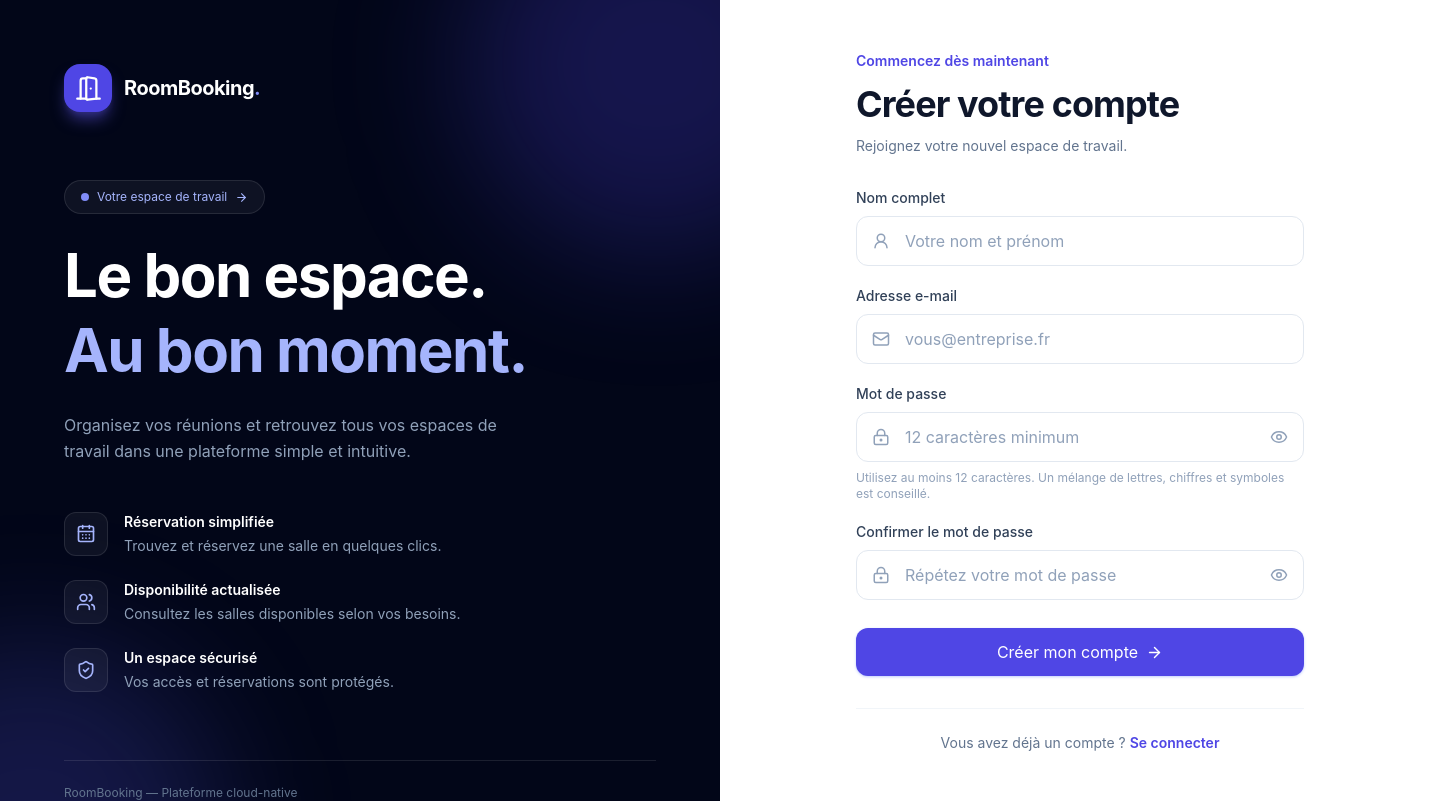
Test: RegisterPage › rejects an invalid email address
The image size is (1440, 801).
Type "RoomBooking Test User" into the field labelled "Nom complet" at (1080, 241), box [856,216,1304,266]
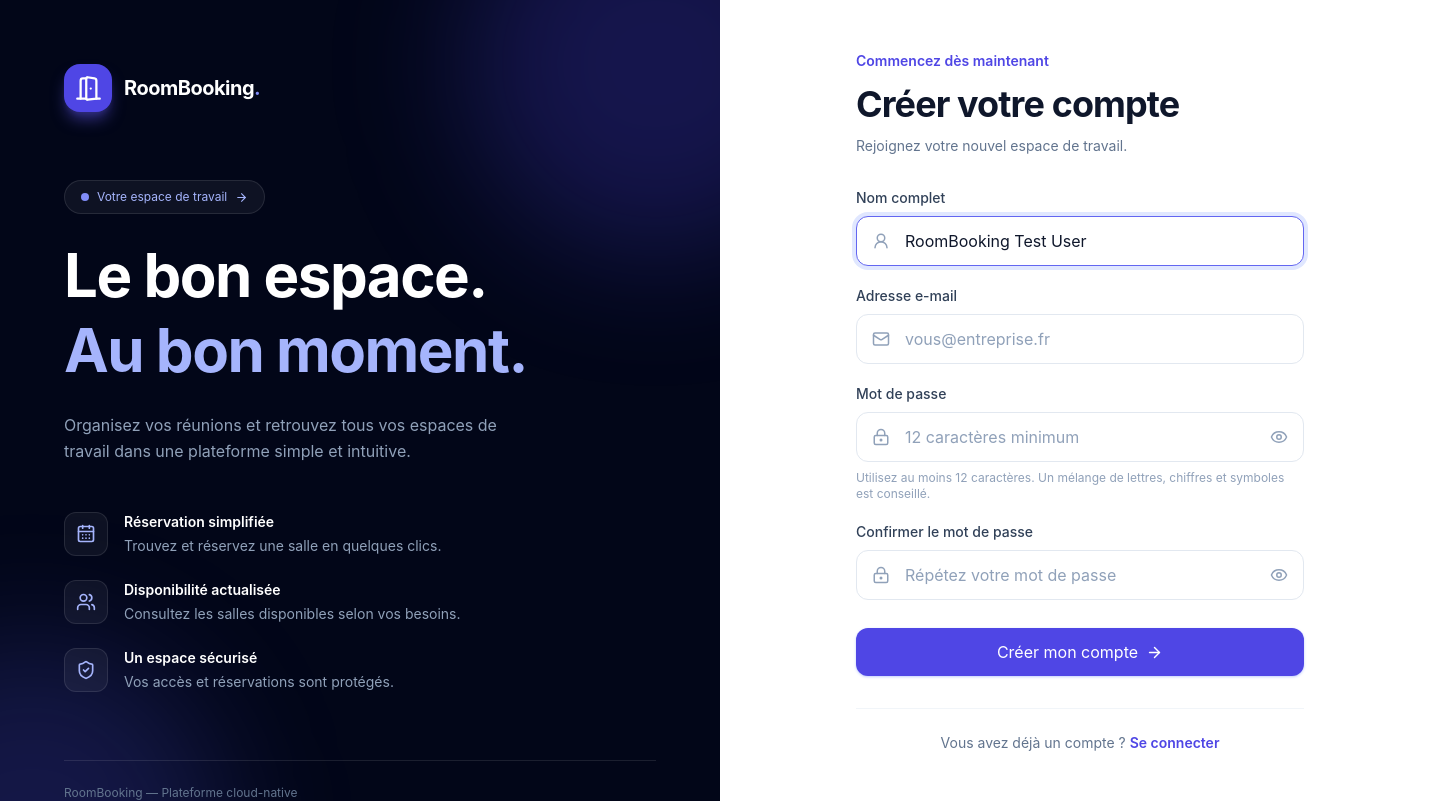
Type "invalid-email" into the field labelled "Adresse e-mail" at (1080, 339), box [856,314,1304,364]
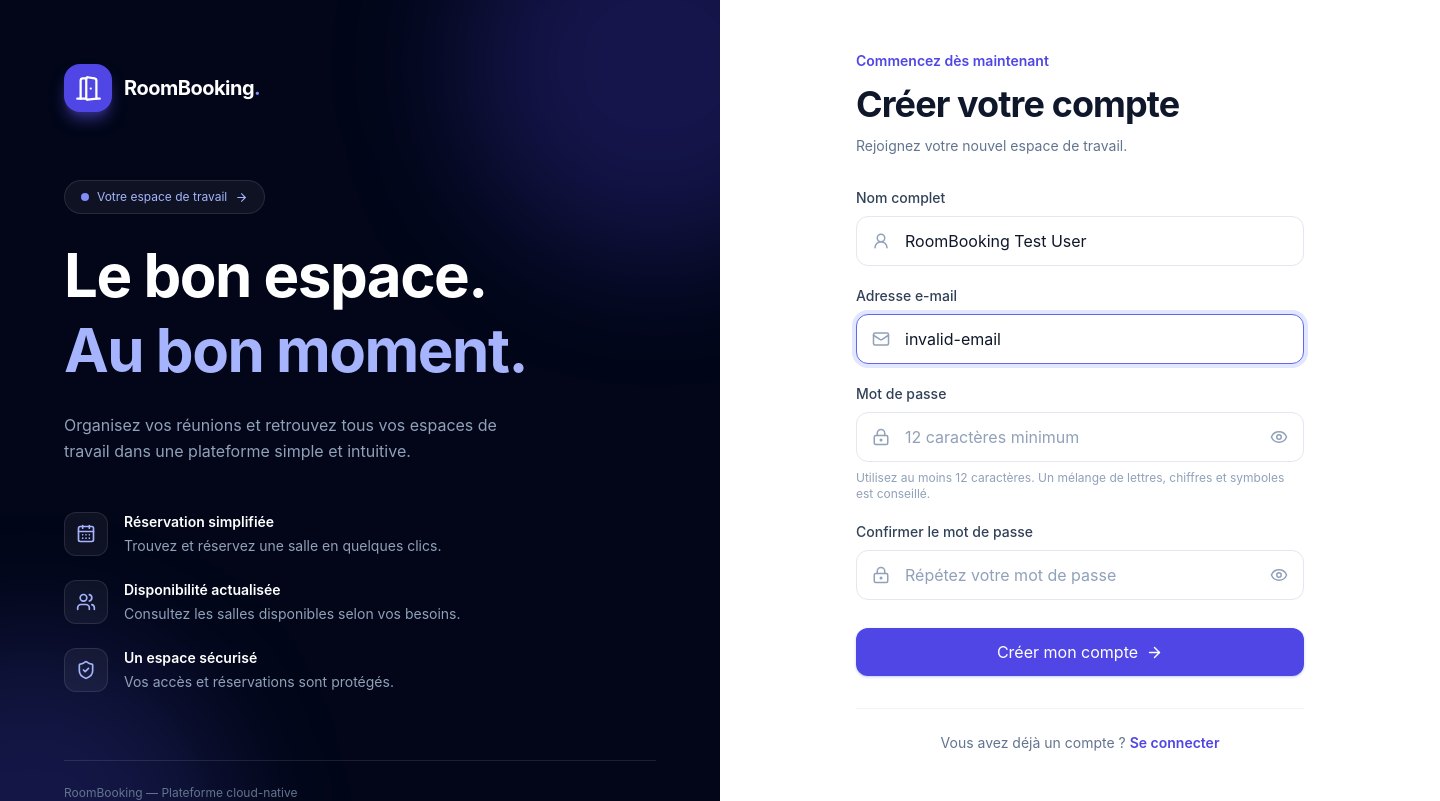
Type "TestPassword@2026!" into the password field labelled "Mot de passe" at (1080, 437), box [856,412,1304,462]
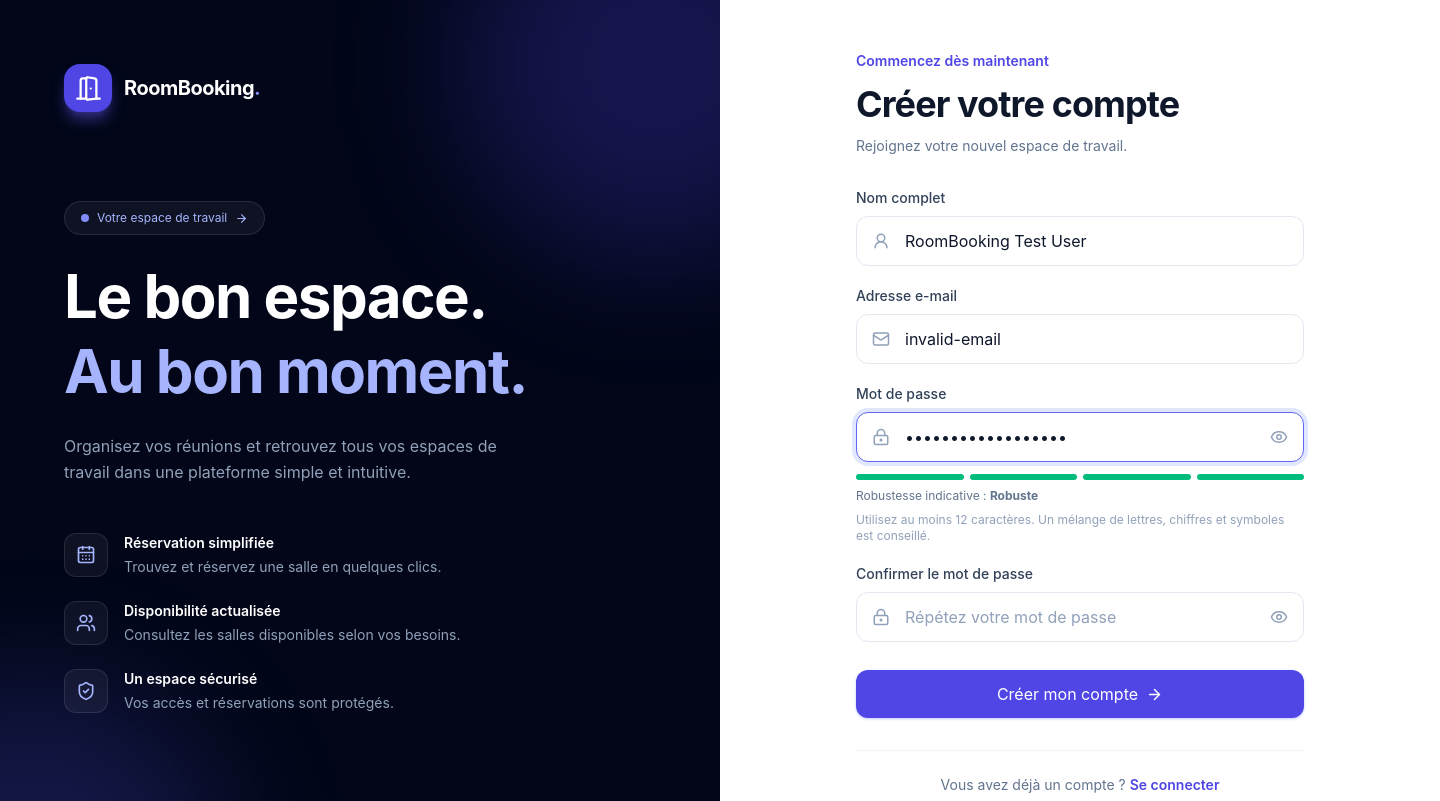
Type "TestPassword@2026!" into the password field labelled "Confirmer le mot de passe" at (1080, 617), box [856,592,1304,642]
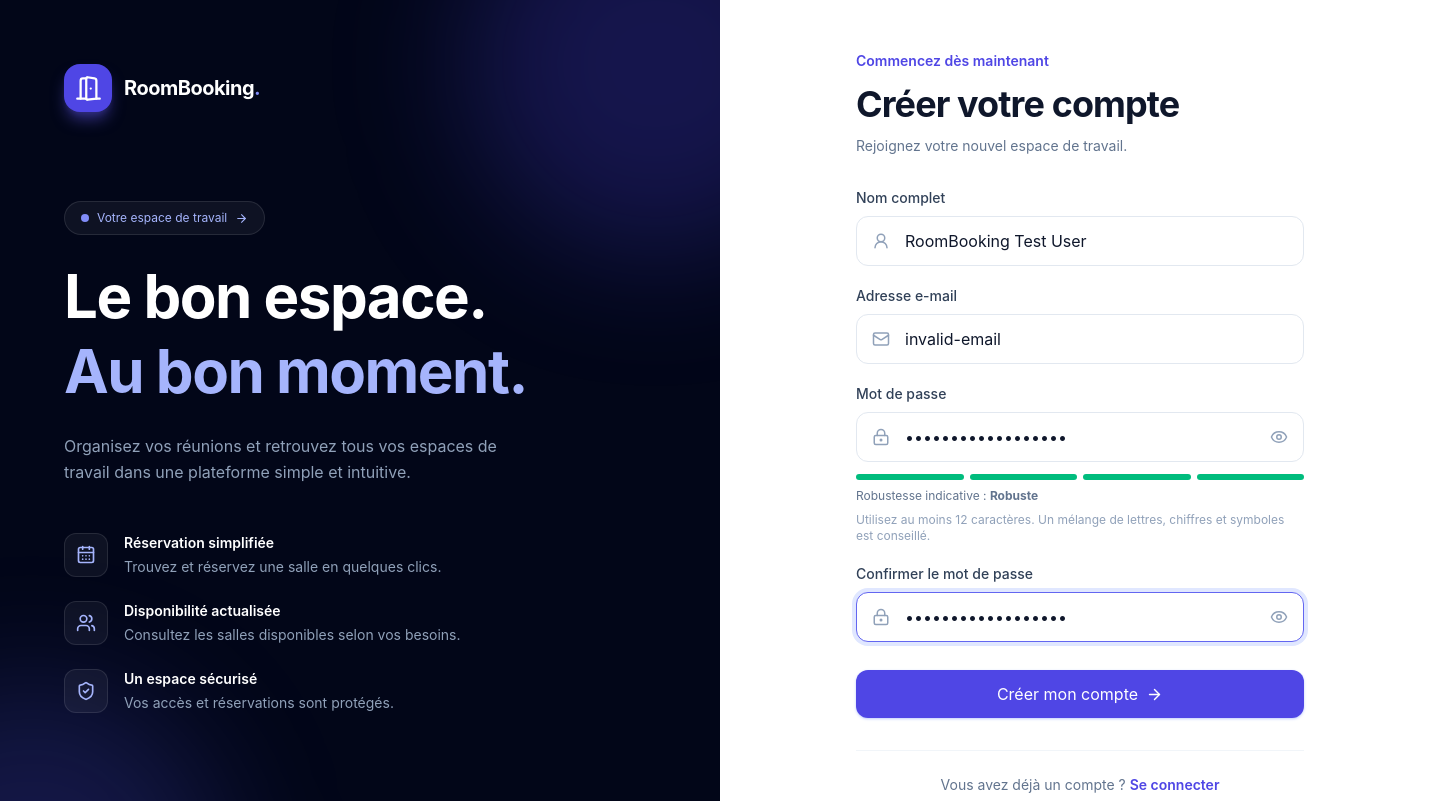
Click the button "Créer mon compte" at (1080, 694), box [856,670,1304,718]
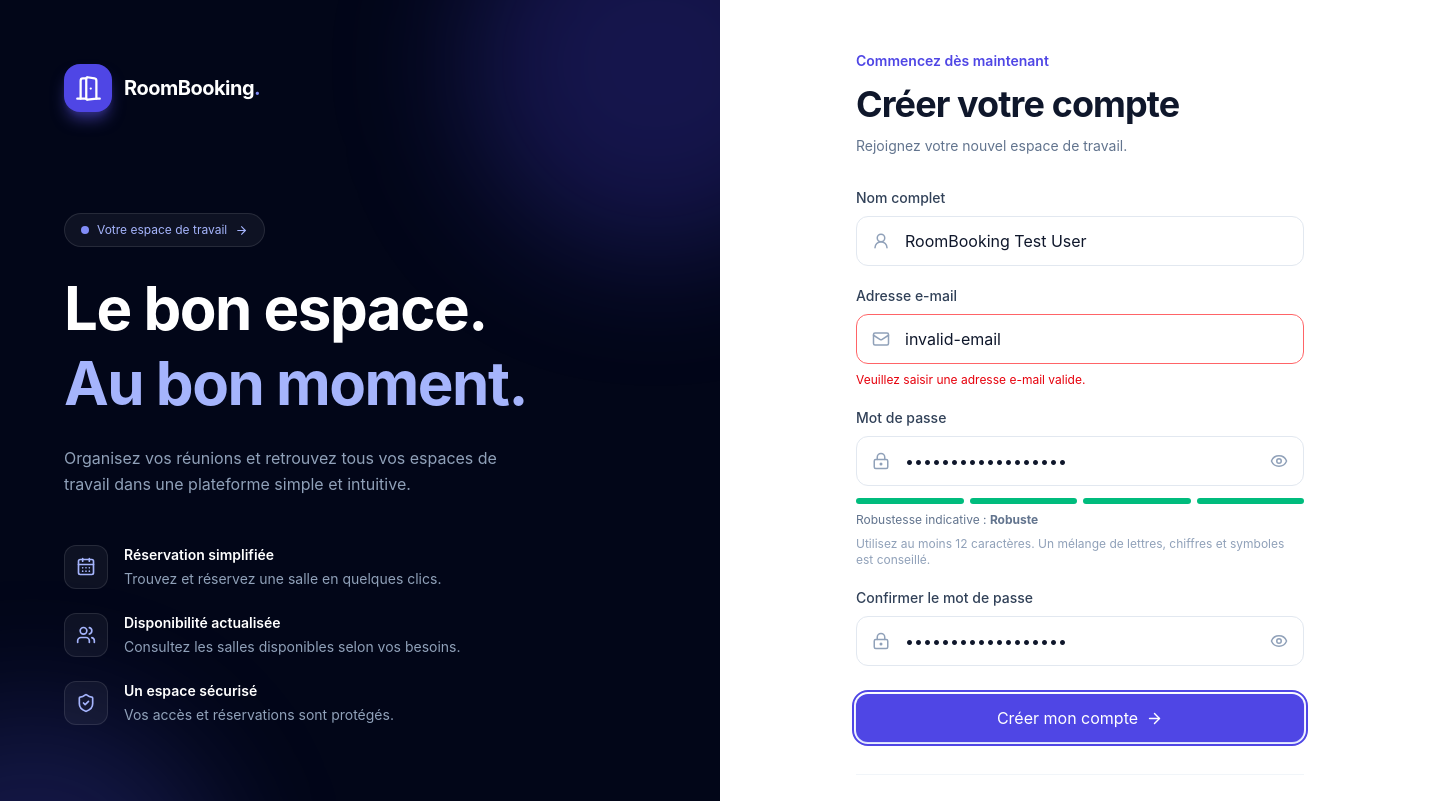
expect the text "Veuillez saisir une adresse e-mail valide." is shown: met, box [856,372,1085,387]
